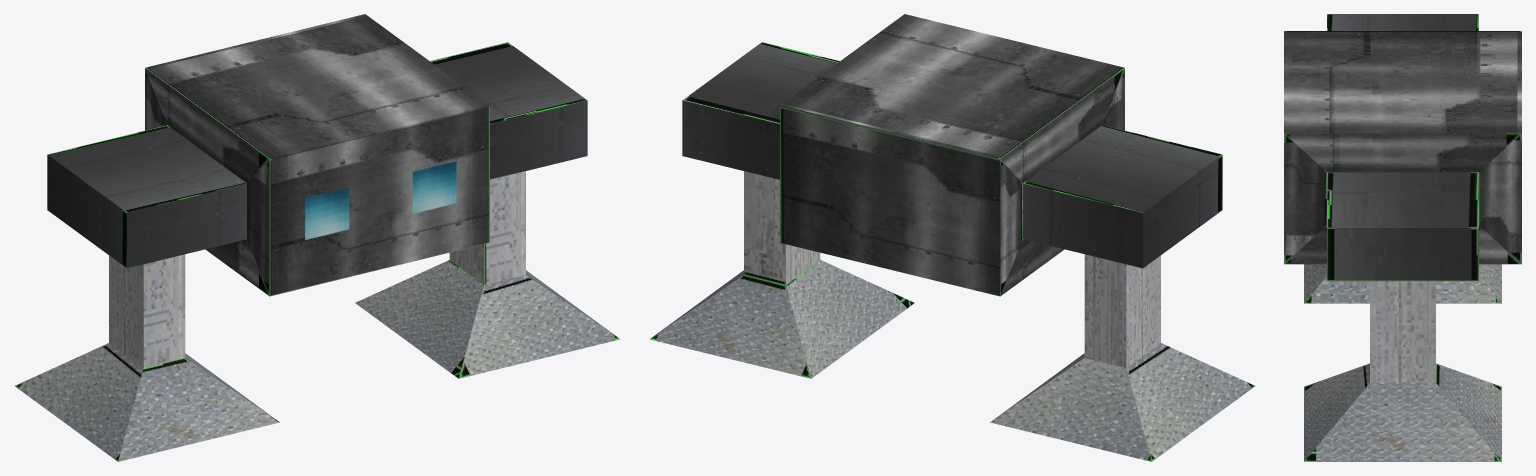
Rendered from robot.fbx.
3 renders of one model, left to right at view 1: azimuth 30°, elevation 25°; view 2: azimuth 150°, elevation 25°; view 3: azimuth 270°, elevation 25°, orthographic. The views are drawn at different scales.
Visible parts, largest first — view 1: robot; view 2: robot; view 3: robot.
Boxes of the visible parts, x1,y1,x2,y2 form: robot: (15, 14, 620, 461); robot: (649, 14, 1254, 461); robot: (1284, 14, 1521, 461).
Size of the model in its own units: 1.65 by 0.8648 by 0.7083.
